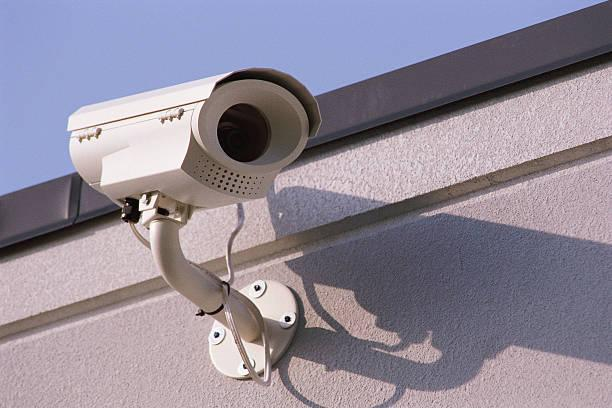camera: (33, 51, 349, 249)
